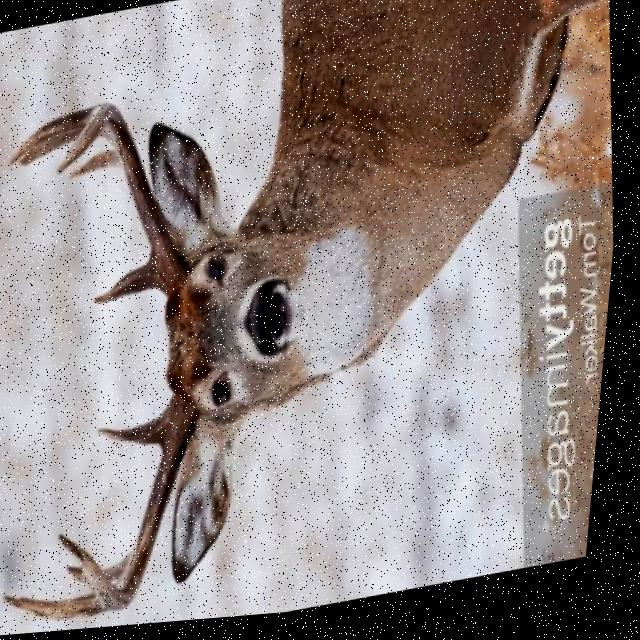L-F: (66, 400, 202, 613)
L-G1: (104, 412, 175, 450)
R-F: (59, 104, 191, 295)
R-G1: (99, 264, 164, 305)
